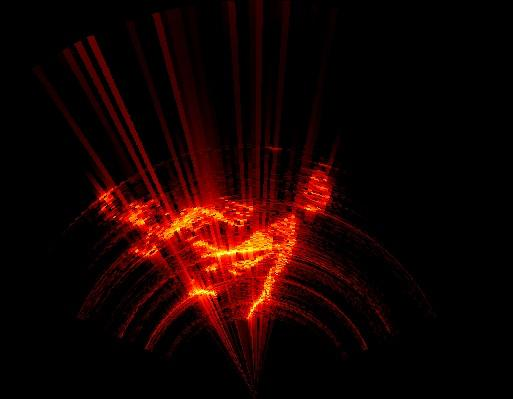shipwreck: (193, 213, 298, 318), (127, 205, 251, 255), (300, 171, 328, 215), (192, 283, 216, 294)
